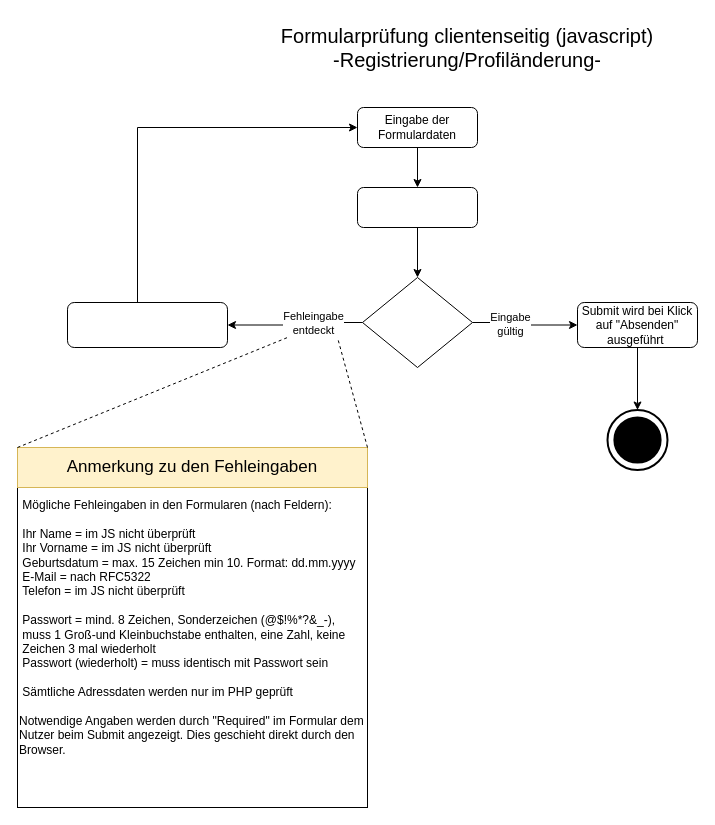
The diagram is 715 pixels wide and 825 high, and some of its shapes have lost their labels. The centre of each missing label's shape, as x and y in pixels:
"Anzeige der Fehleingaben durch Rotmarkierung und Textelemente unter Zelle" belongs at (x=147, y=325).
"Formulareingaben prüfen" belongs at (x=417, y=207).
